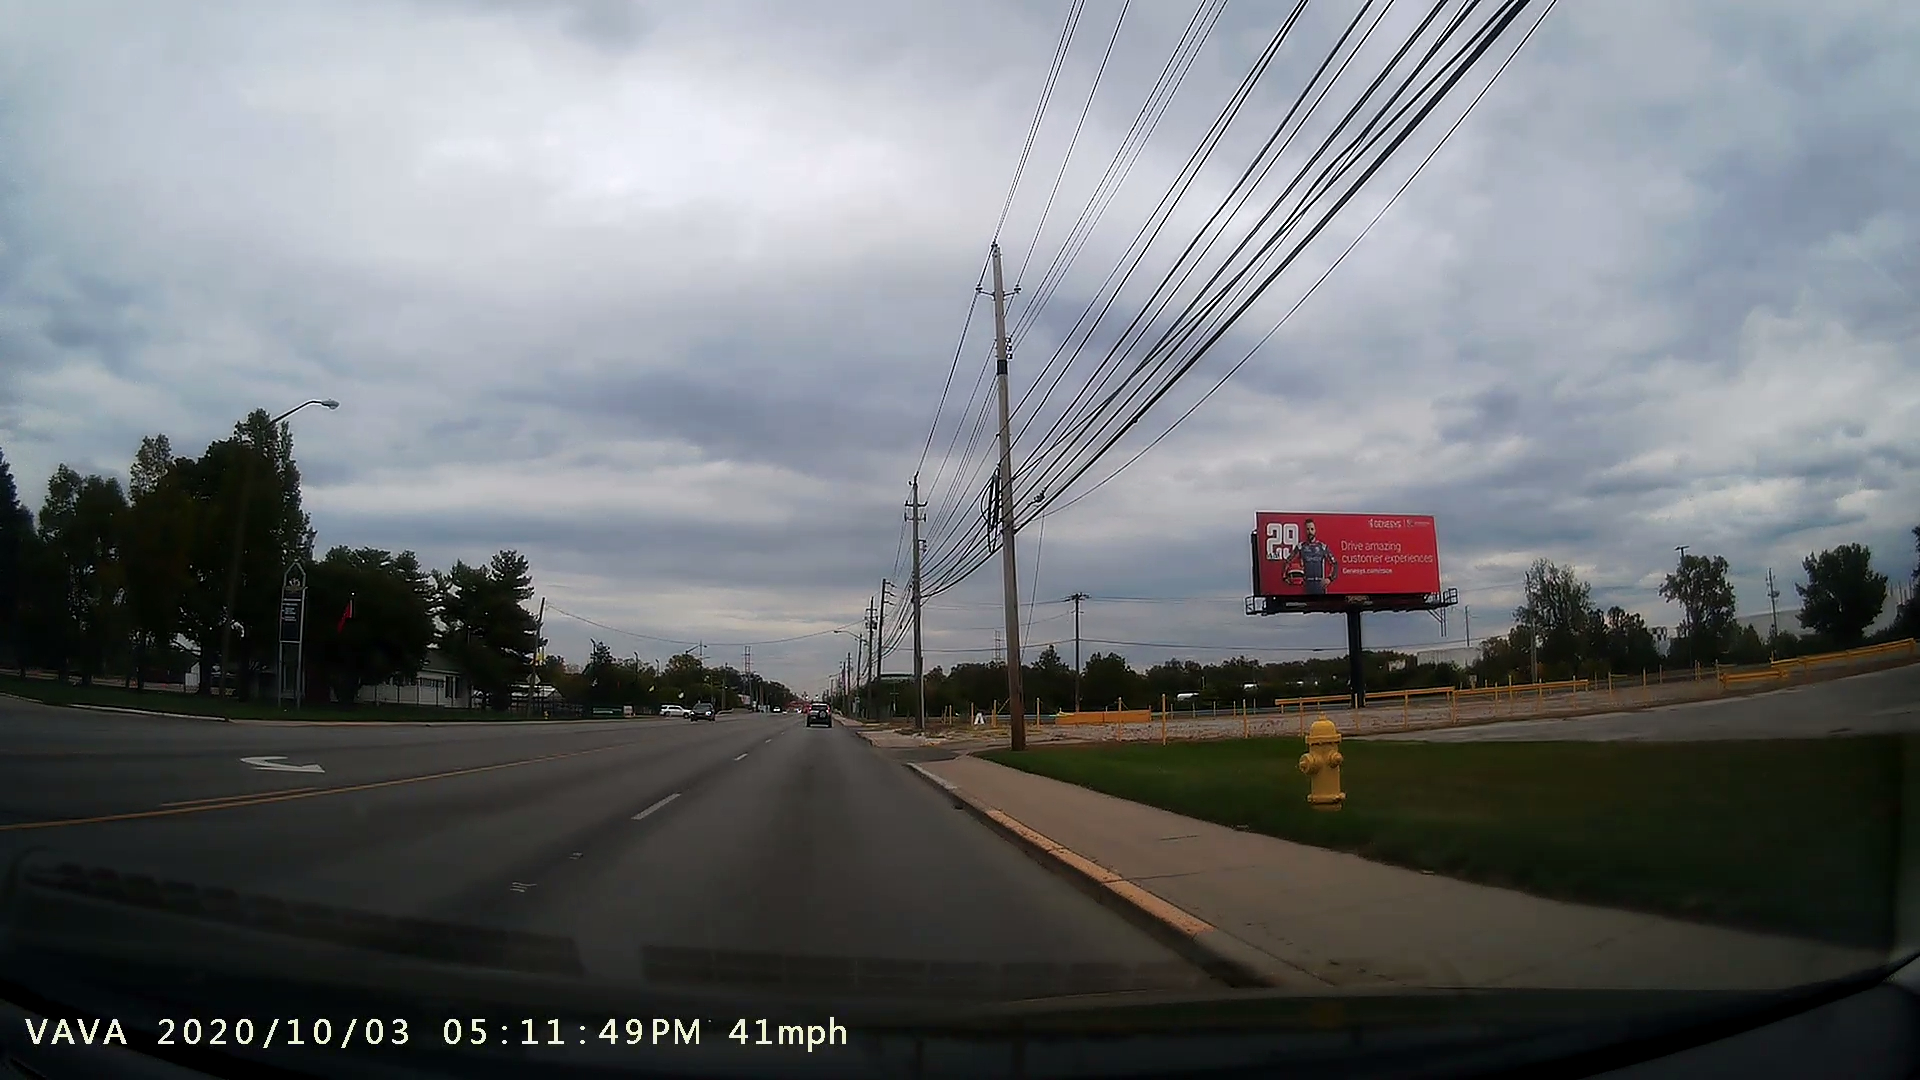fire_hydrant: (1275, 698, 1358, 828)
